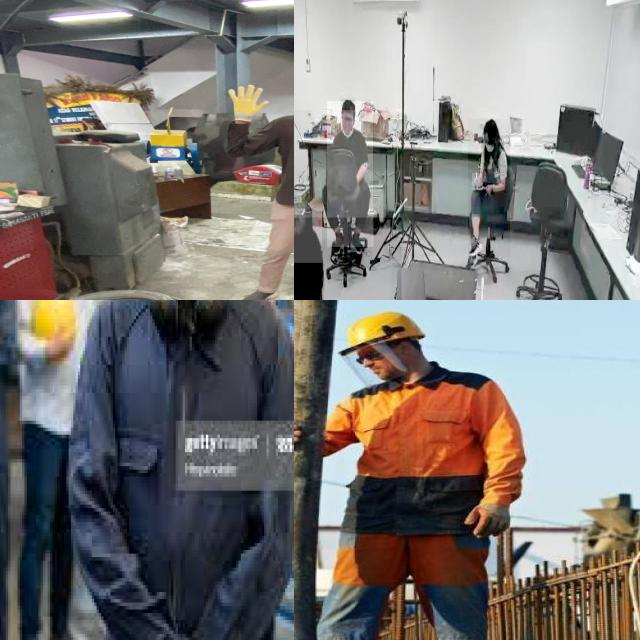Ear-protection: (187, 300, 229, 344), (143, 300, 180, 340)
face_mask: (485, 139, 495, 160)
face_nomask: (342, 112, 354, 132)
glasses: (349, 347, 399, 370)
hand_glove: (464, 499, 513, 541), (222, 83, 271, 117)
hand_noglove: (472, 173, 483, 187), (483, 183, 493, 195)
head_helmet: (344, 309, 428, 353), (24, 300, 75, 354)
head_nohelmet: (294, 213, 322, 263), (482, 118, 498, 134), (341, 98, 355, 111)
person: (75, 300, 294, 640), (310, 300, 528, 640), (22, 300, 101, 640), (217, 57, 294, 300), (327, 101, 373, 247), (468, 119, 510, 258)
shoes: (231, 284, 281, 300), (350, 225, 365, 259), (331, 225, 344, 258), (468, 232, 483, 257)
